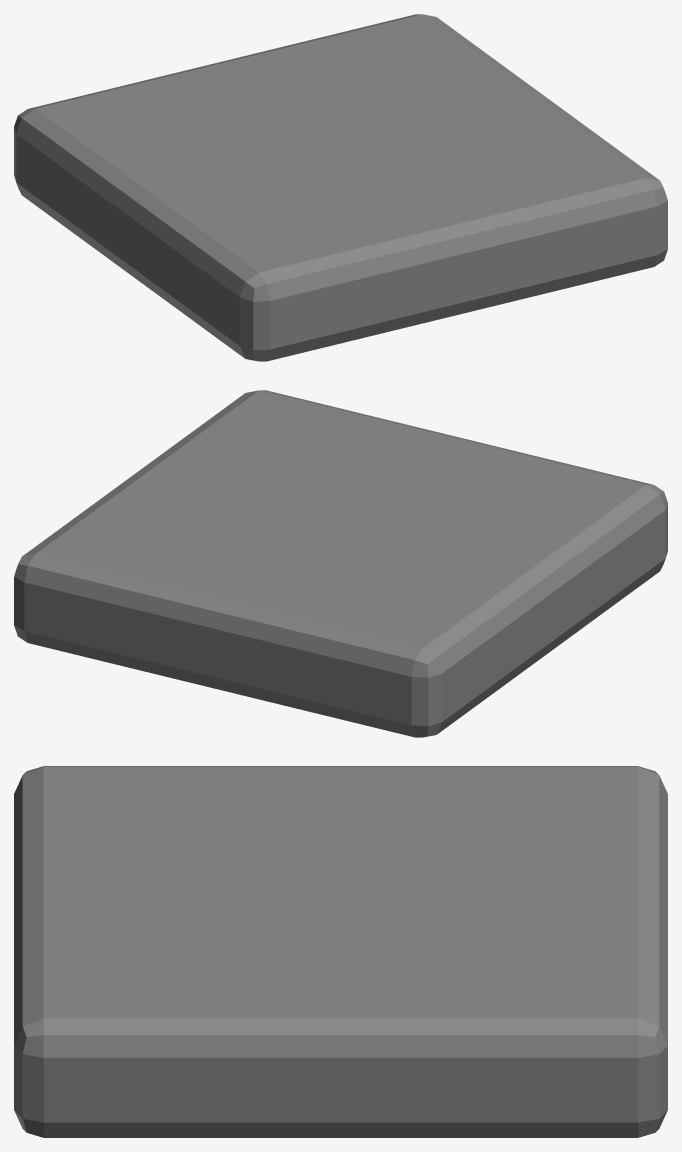
File: SpaceTop2.glb
The picture shows the model from 3 angles, top to bottom: view 1: azimuth 30°, elevation 25°; view 2: azimuth 150°, elevation 25°; view 3: azimuth 270°, elevation 25°; orthographic projection. The views are drawn at different scales.
Visible parts, largest first — view 1: Top_Big_0_4; view 2: Top_Big_0_4; view 3: Top_Big_0_4.
Part boxes in pixels (left/top/right/bottom): Top_Big_0_4: left=14, top=14, right=667, bottom=361; Top_Big_0_4: left=14, top=390, right=667, bottom=737; Top_Big_0_4: left=14, top=766, right=667, bottom=1137.
Bounding box in the file's own units: 2.2 × 0.44 × 2.2.
Materials: 1 (1 with a texture image).
